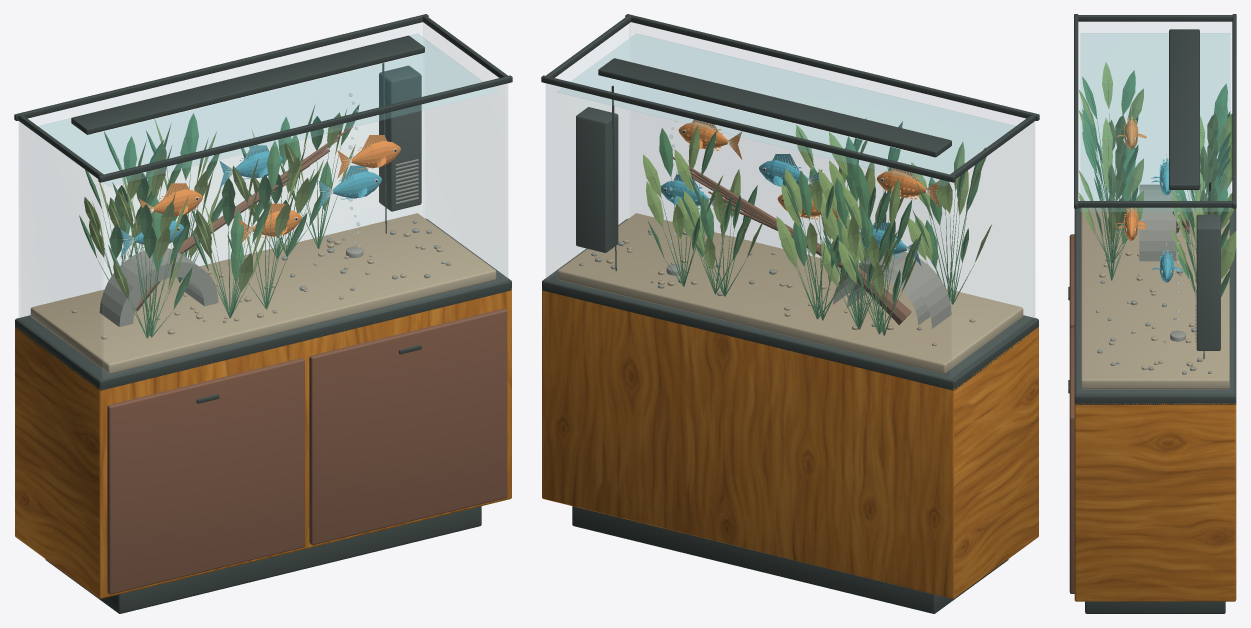
The model's file is planted-aquarium.glb.
The picture shows the model from 3 angles, left to right: view 1: azimuth 30°, elevation 25°; view 2: azimuth 150°, elevation 25°; view 3: azimuth 270°, elevation 25°; orthographic projection. The views are drawn at different scales.
Parts seen in each view (by area): view 1: planted-aquarium, aquarium_fish_5, aquarium_fish_2, aquarium_fish_3, aquarium_fish_4, aquarium_fish_1; view 2: planted-aquarium, aquarium_fish_3, aquarium_fish_4, aquarium_fish_5, aquarium_fish_2; view 3: planted-aquarium, aquarium_fish_2, aquarium_fish_3, aquarium_fish_5, aquarium_fish_4.
Part boxes in pixels (<box>): planted-aquarium: <box>14,14,512,613</box>; aquarium_fish_5: <box>351,135,400,169</box>; aquarium_fish_2: <box>333,165,381,199</box>; aquarium_fish_3: <box>153,183,202,216</box>; aquarium_fish_4: <box>236,145,282,179</box>; aquarium_fish_1: <box>252,203,301,237</box>; planted-aquarium: <box>541,14,1039,613</box>; aquarium_fish_3: <box>877,168,925,199</box>; aquarium_fish_4: <box>759,154,808,186</box>; aquarium_fish_5: <box>678,119,727,150</box>; aquarium_fish_2: <box>661,174,708,209</box>; planted-aquarium: <box>1068,14,1236,613</box>; aquarium_fish_2: <box>1151,246,1182,282</box>; aquarium_fish_3: <box>1116,111,1146,149</box>; aquarium_fish_5: <box>1115,208,1146,240</box>; aquarium_fish_4: <box>1151,158,1171,195</box>.
Size of the model in its own units: 1.2 by 1.25 by 0.45.
29 materials, 1 textured.
